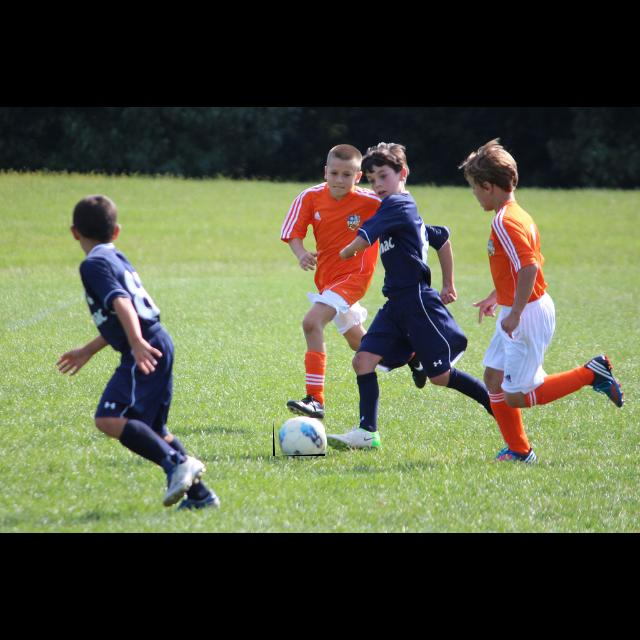Football: (273, 418, 325, 456)
